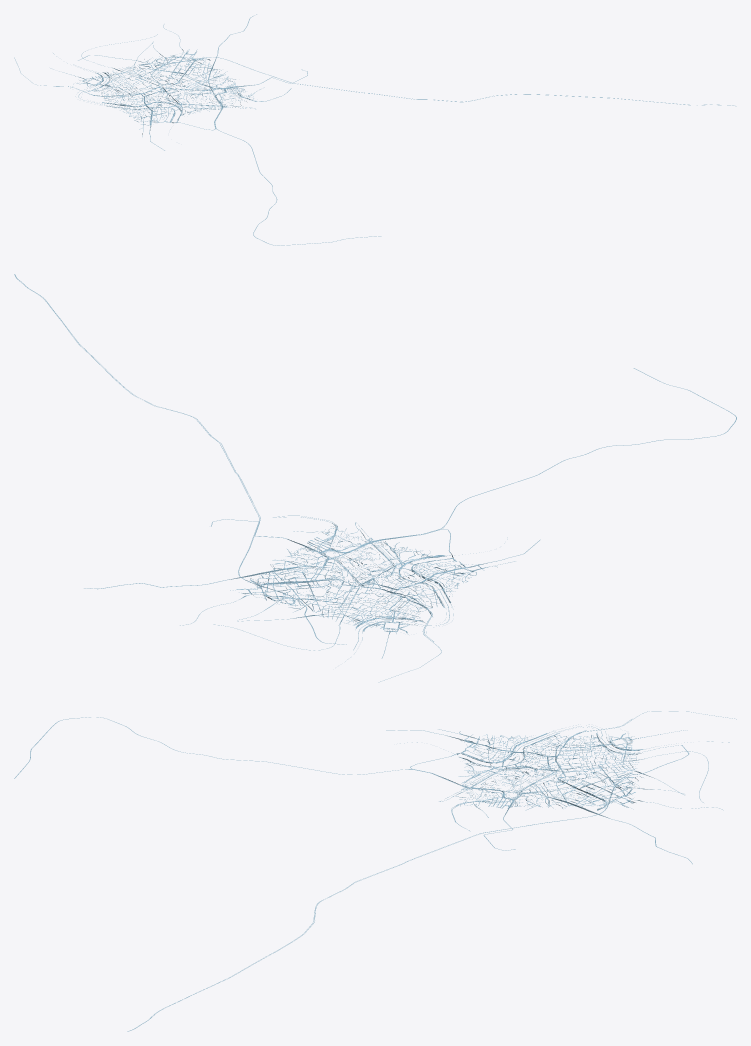
Rendered from roads.glb.
3 views of the same model, one above another, from view 1: azimuth 30°, elevation 25°; view 2: azimuth 150°, elevation 25°; view 3: azimuth 270°, elevation 25° (orthographic). The views are drawn at different scales.
Visible parts, largest first — view 1: roads; view 2: roads; view 3: roads.
Part boxes in pixels (<box>): roads: <box>14,14,736,245</box>; roads: <box>14,274,736,682</box>; roads: <box>14,711,736,1031</box>.
Size of the model in its own units: 10982 by 83.11 by 10404.
